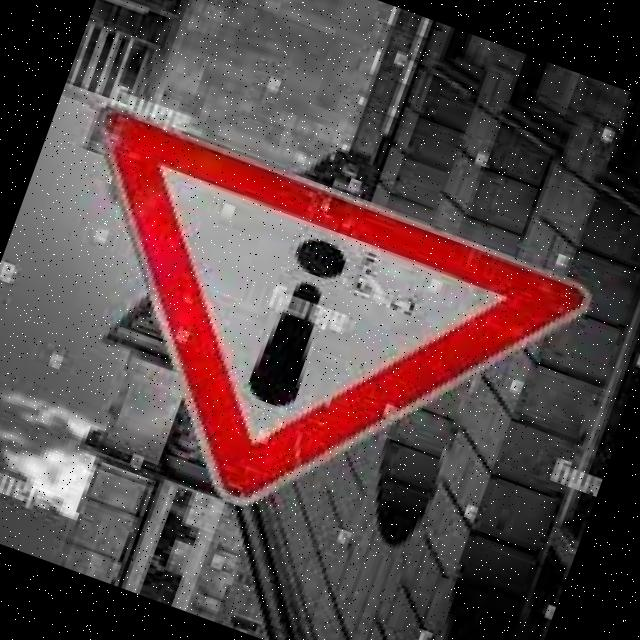warning: (0, 79, 609, 598)
